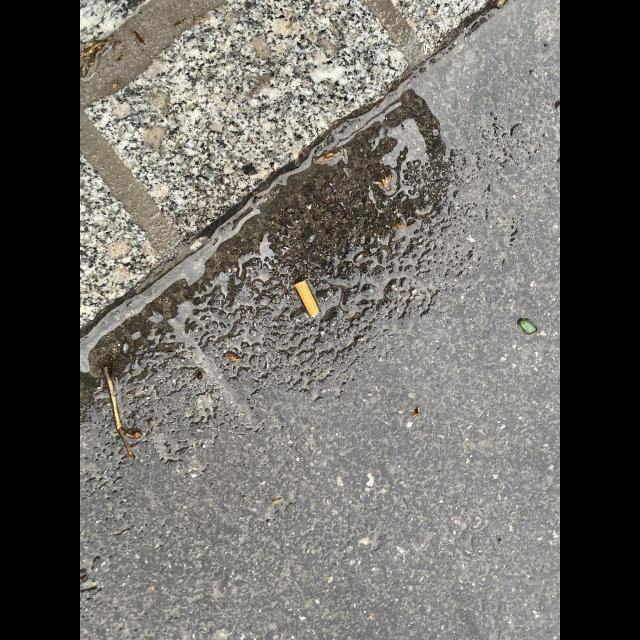cigarette: (294, 280, 320, 318)
